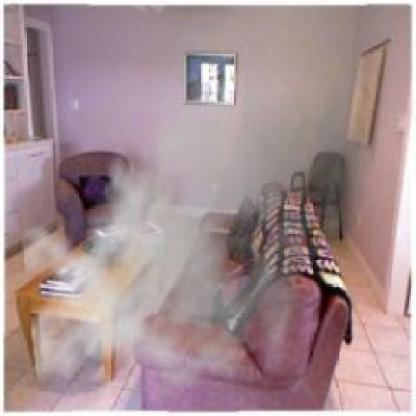Smoke: (20, 49, 377, 409)
